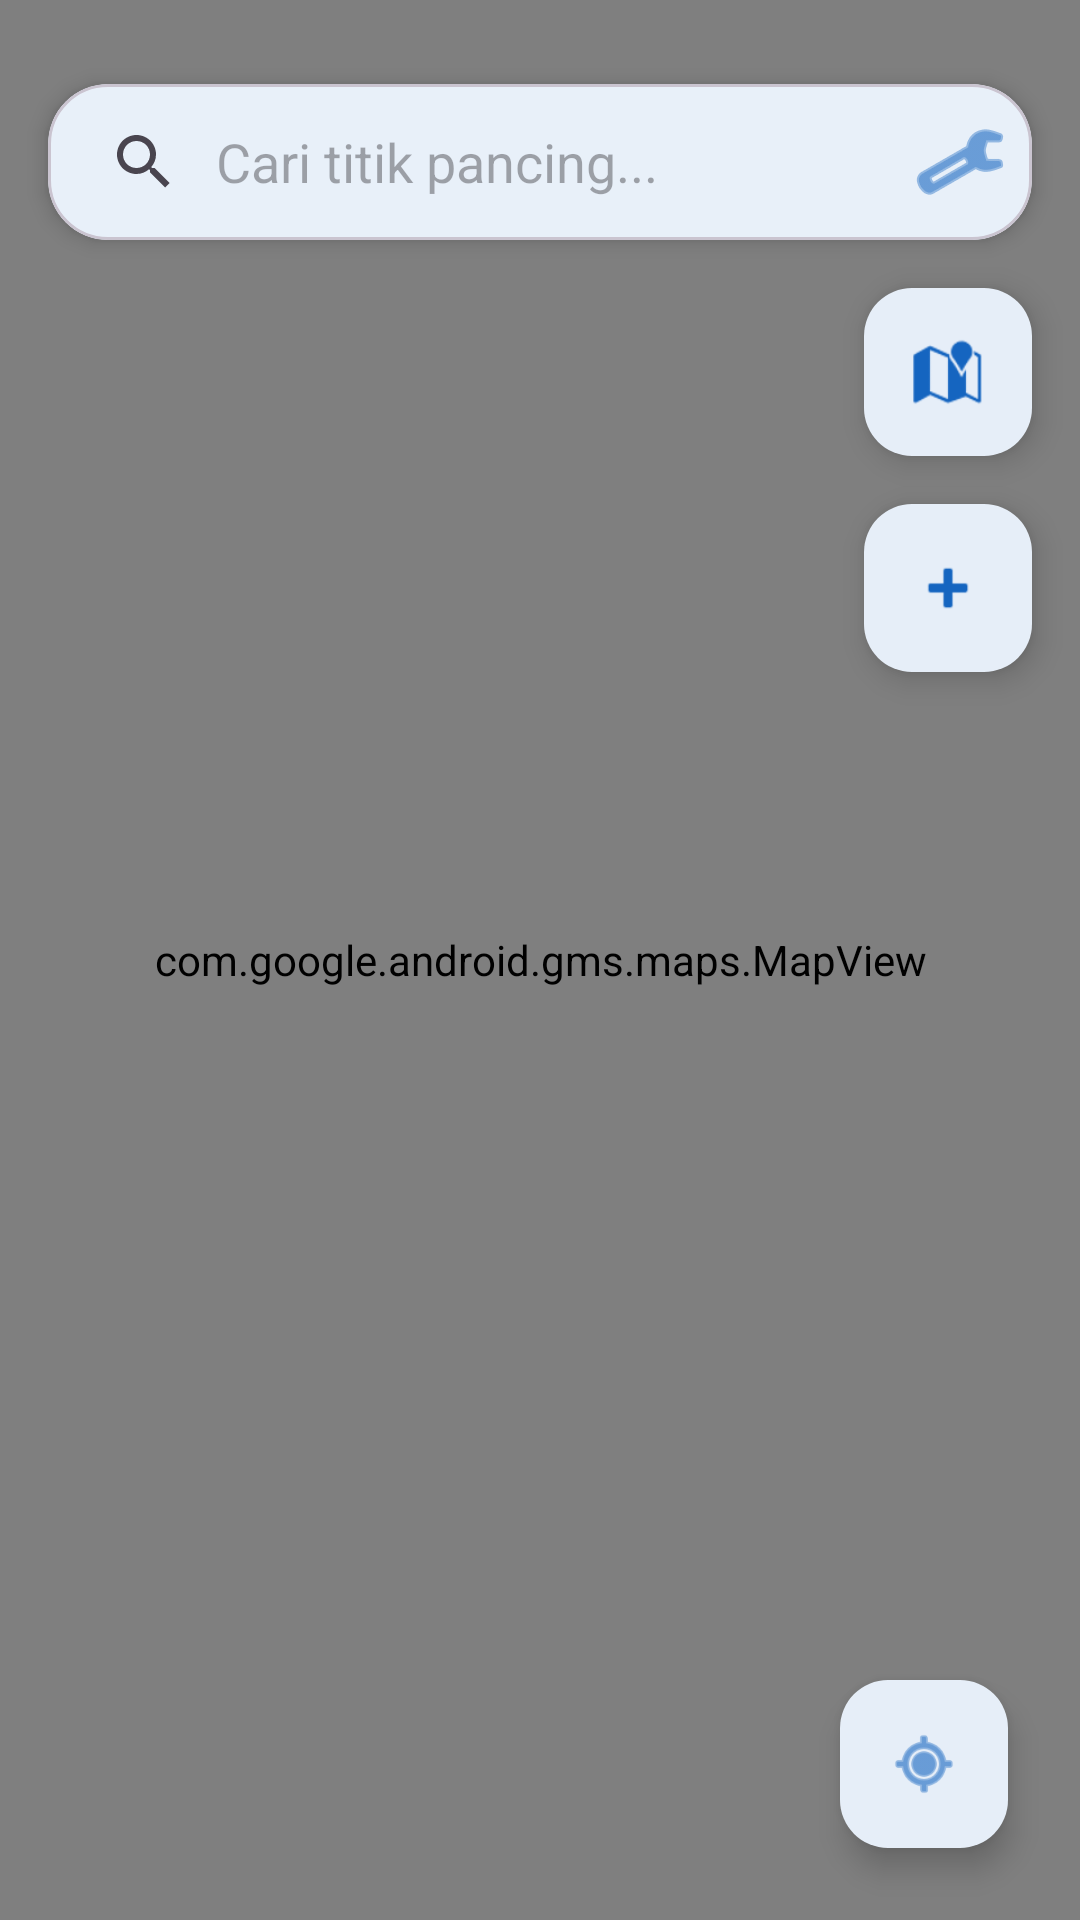

Icon click points for this 1080 x 1920 phone screenshot, format [x,y]:
Add Marker: [948,588]
Map Type: [948,372]
My Location: [924,1764]
